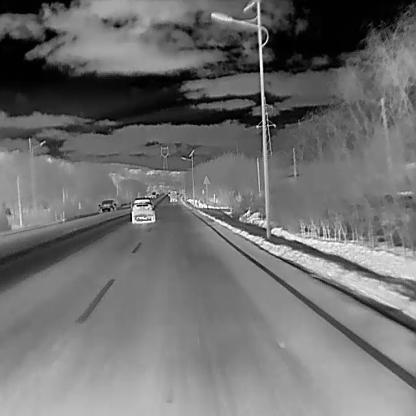car: (130, 195, 156, 224), (96, 198, 118, 214), (168, 189, 177, 203), (150, 190, 156, 198)
